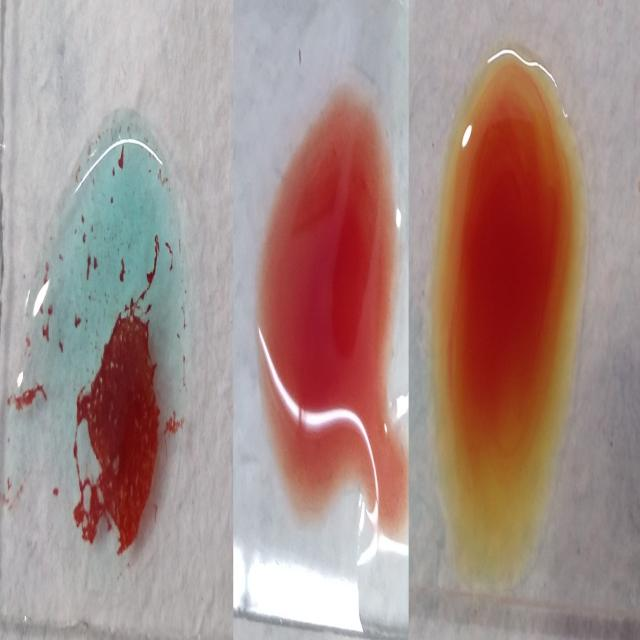A: (23, 111, 196, 579)
